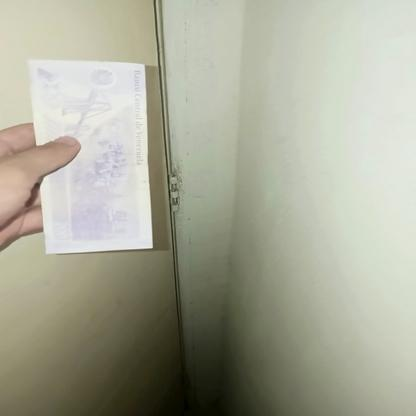two_hundred-back-vef: (27, 57, 152, 255)
